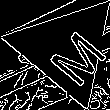M_NW: (30, 15, 102, 83)
